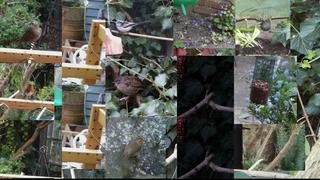dunnock: (111, 76, 157, 102)
long tailed tit: (114, 20, 153, 35)
robin: (122, 137, 146, 163), (22, 83, 34, 101)
sparrow: (257, 20, 270, 33)
starling: (15, 20, 42, 50)
